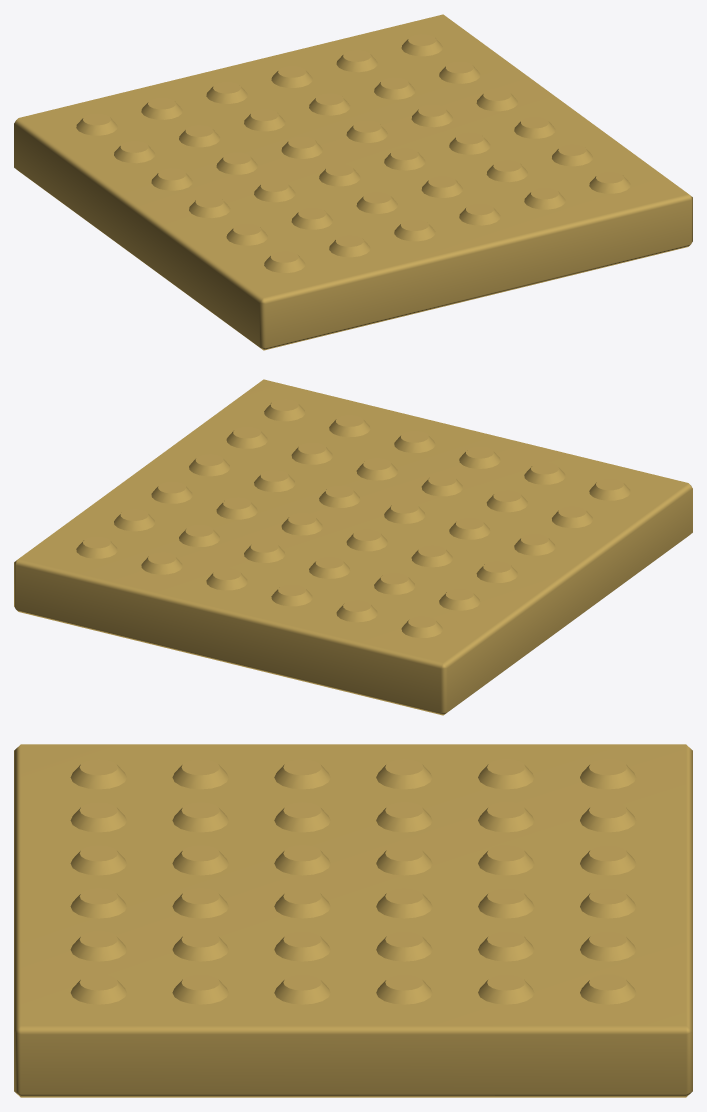
The model's file is city-tactile-paving.glb.
3 views of the same model, one above another, from view 1: azimuth 30°, elevation 25°; view 2: azimuth 150°, elevation 25°; view 3: azimuth 270°, elevation 25° (orthographic). The views are drawn at different scales.
Visible parts, largest first — view 1: Tactile paving slab, Truncated warning dome.012, Truncated warning dome.018, Truncated warning dome.024, Truncated warning dome.026, Truncated warning dome.005, Truncated warning dome.034, Truncated warning dome.003, Truncated warning dome.013, Truncated warning dome.014, Truncated warning dome.020, Truncated warning dome.028 (+25 smaller); view 2: Tactile paving slab, Truncated warning dome.017, Truncated warning dome.023, Truncated warning dome.027, Truncated warning dome.029, Truncated warning dome, Truncated warning dome.031, Truncated warning dome.002, Truncated warning dome.015, Truncated warning dome.016, Truncated warning dome.021, Truncated warning dome.025 (+25 smaller); view 3: Tactile paving slab, Truncated warning dome.014, Truncated warning dome.015, Truncated warning dome.020, Truncated warning dome.021, Truncated warning dome.002, Truncated warning dome.003, Truncated warning dome.008, Truncated warning dome.009, Truncated warning dome.026, Truncated warning dome.027, Truncated warning dome.031 (+25 smaller).
Boxes of the visible parts, x1,y1,x2,y2 form: Tactile paving slab: [14, 14, 692, 350]; Truncated warning dome.012: [394, 219, 435, 241]; Truncated warning dome.018: [459, 203, 500, 225]; Truncated warning dome.024: [524, 187, 565, 209]; Truncated warning dome.026: [449, 132, 490, 154]; Truncated warning dome.005: [76, 113, 117, 135]; Truncated warning dome.034: [439, 61, 480, 83]; Truncated warning dome.003: [151, 168, 192, 190]; Truncated warning dome.013: [356, 191, 397, 213]; Truncated warning dome.014: [319, 164, 360, 186]; Truncated warning dome.020: [384, 148, 425, 170]; Truncated warning dome.028: [374, 77, 415, 99]; Tactile paving slab: [14, 379, 692, 715]; Truncated warning dome.017: [271, 584, 312, 606]; Truncated warning dome.023: [206, 568, 247, 590]; Truncated warning dome.027: [216, 497, 257, 519]; Truncated warning dome.029: [141, 552, 182, 574]; Truncated warning dome: [589, 478, 630, 500]; Truncated warning dome.031: [226, 426, 267, 448]; Truncated warning dome.002: [514, 533, 555, 555]; Truncated warning dome.015: [346, 529, 387, 551]; Truncated warning dome.016: [309, 556, 350, 578]; Truncated warning dome.021: [281, 513, 322, 535]; Truncated warning dome.025: [291, 442, 332, 464]; Tactile paving slab: [14, 744, 692, 1097]; Truncated warning dome.014: [274, 845, 330, 875]; Truncated warning dome.015: [376, 845, 432, 875]; Truncated warning dome.020: [274, 888, 330, 918]; Truncated warning dome.021: [376, 888, 432, 918]; Truncated warning dome.002: [274, 759, 330, 789]; Truncated warning dome.003: [376, 759, 432, 789]; Truncated warning dome.008: [274, 802, 330, 832]; Truncated warning dome.009: [376, 802, 432, 832]; Truncated warning dome.026: [274, 931, 330, 961]; Truncated warning dome.027: [376, 931, 432, 961]; Truncated warning dome.031: [172, 974, 228, 1004].
Size of the model in its own units: 0.3 by 0.04 by 0.3.
